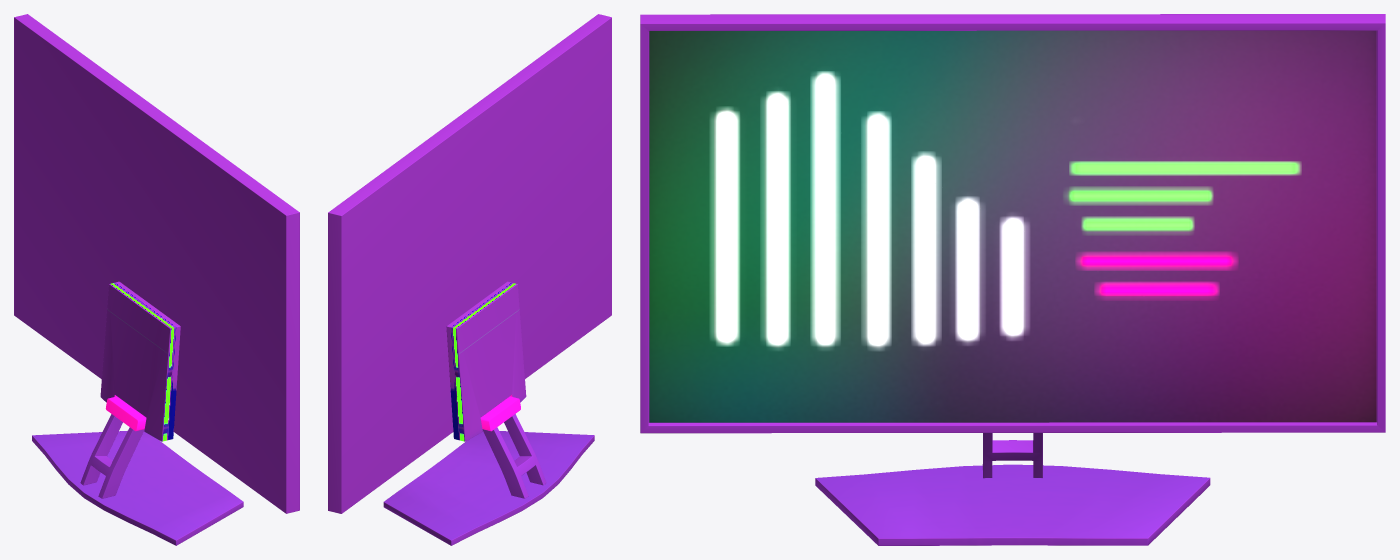
File: bein_pc.glb
3 renders of one model, left to right at view 1: azimuth 30°, elevation 25°; view 2: azimuth 150°, elevation 25°; view 3: azimuth 270°, elevation 25°, orthographic. The views are drawn at different scales.
Parts seen in each view (by area): view 1: Cube.007_Base Mat_0; view 2: Cube.007_Base Mat_0; view 3: Cube.007_Base Mat_0.
Part boxes in pixels (bbox=[...]): Cube.007_Base Mat_0: bbox=[14, 14, 299, 545]; Cube.007_Base Mat_0: bbox=[328, 14, 611, 545]; Cube.007_Base Mat_0: bbox=[640, 14, 1385, 545].
Size of the model in its own units: 0.6315 by 1.99 by 2.68.
1 material, 1 textured.
